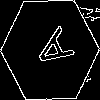A: (25, 24, 75, 78)
